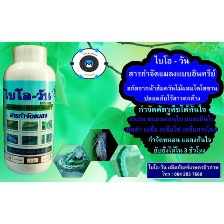insecticide: (0, 43, 58, 175)
